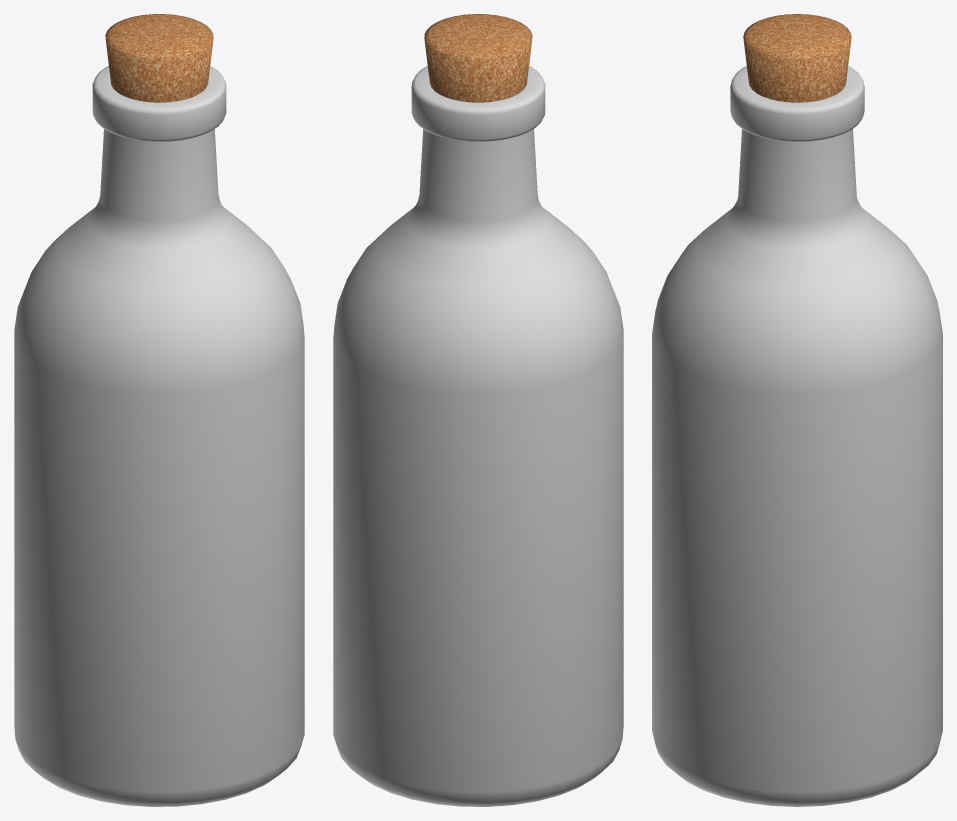
Rendered from glass_1.fbx.
3 renders of one model, left to right at view 1: azimuth 30°, elevation 25°; view 2: azimuth 150°, elevation 25°; view 3: azimuth 270°, elevation 25°, orthographic.
Parts seen in each view (by area): view 1: Bottle, Cork; view 2: Bottle, Cork; view 3: Bottle, Cork.
Boxes of the visible parts, left/top/right/bottom form: Bottle: left=14, top=66, right=304, bottom=806; Cork: left=105, top=14, right=213, bottom=102; Bottle: left=333, top=66, right=623, bottom=806; Cork: left=424, top=14, right=532, bottom=102; Bottle: left=652, top=66, right=942, bottom=806; Cork: left=743, top=14, right=851, bottom=102.
Size of the model in its own units: 11.78 by 32.36 by 11.78.
2 materials, 1 textured.
